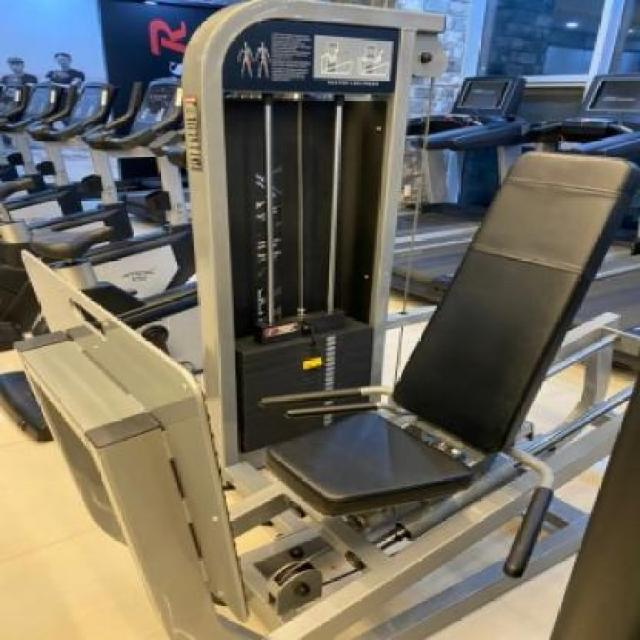leg press: (11, 3, 640, 640)
